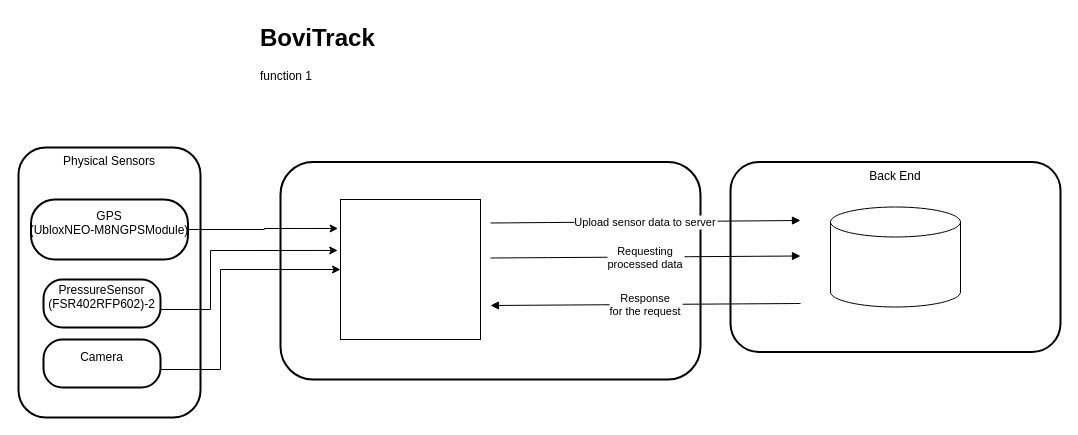
Image size: 1078x435. Some labels were removed from this diagram. The centre of each missing label's shape, as x and y in pixels:
ESP 32 micro Controller: point 410,269
Server: point 895,256
